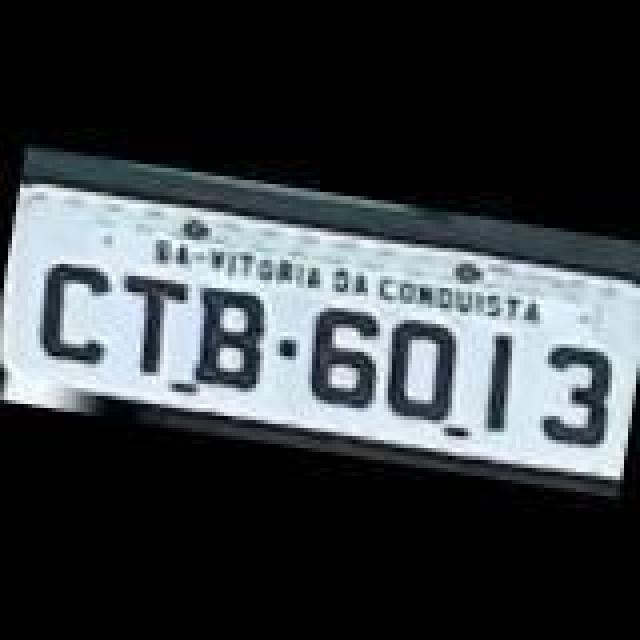1: (468, 328, 524, 440)
3: (530, 336, 622, 456)
6: (298, 304, 390, 416)
B: (186, 284, 278, 396)
C: (26, 256, 126, 368)
O: (378, 312, 470, 424)
T: (102, 268, 194, 380)
